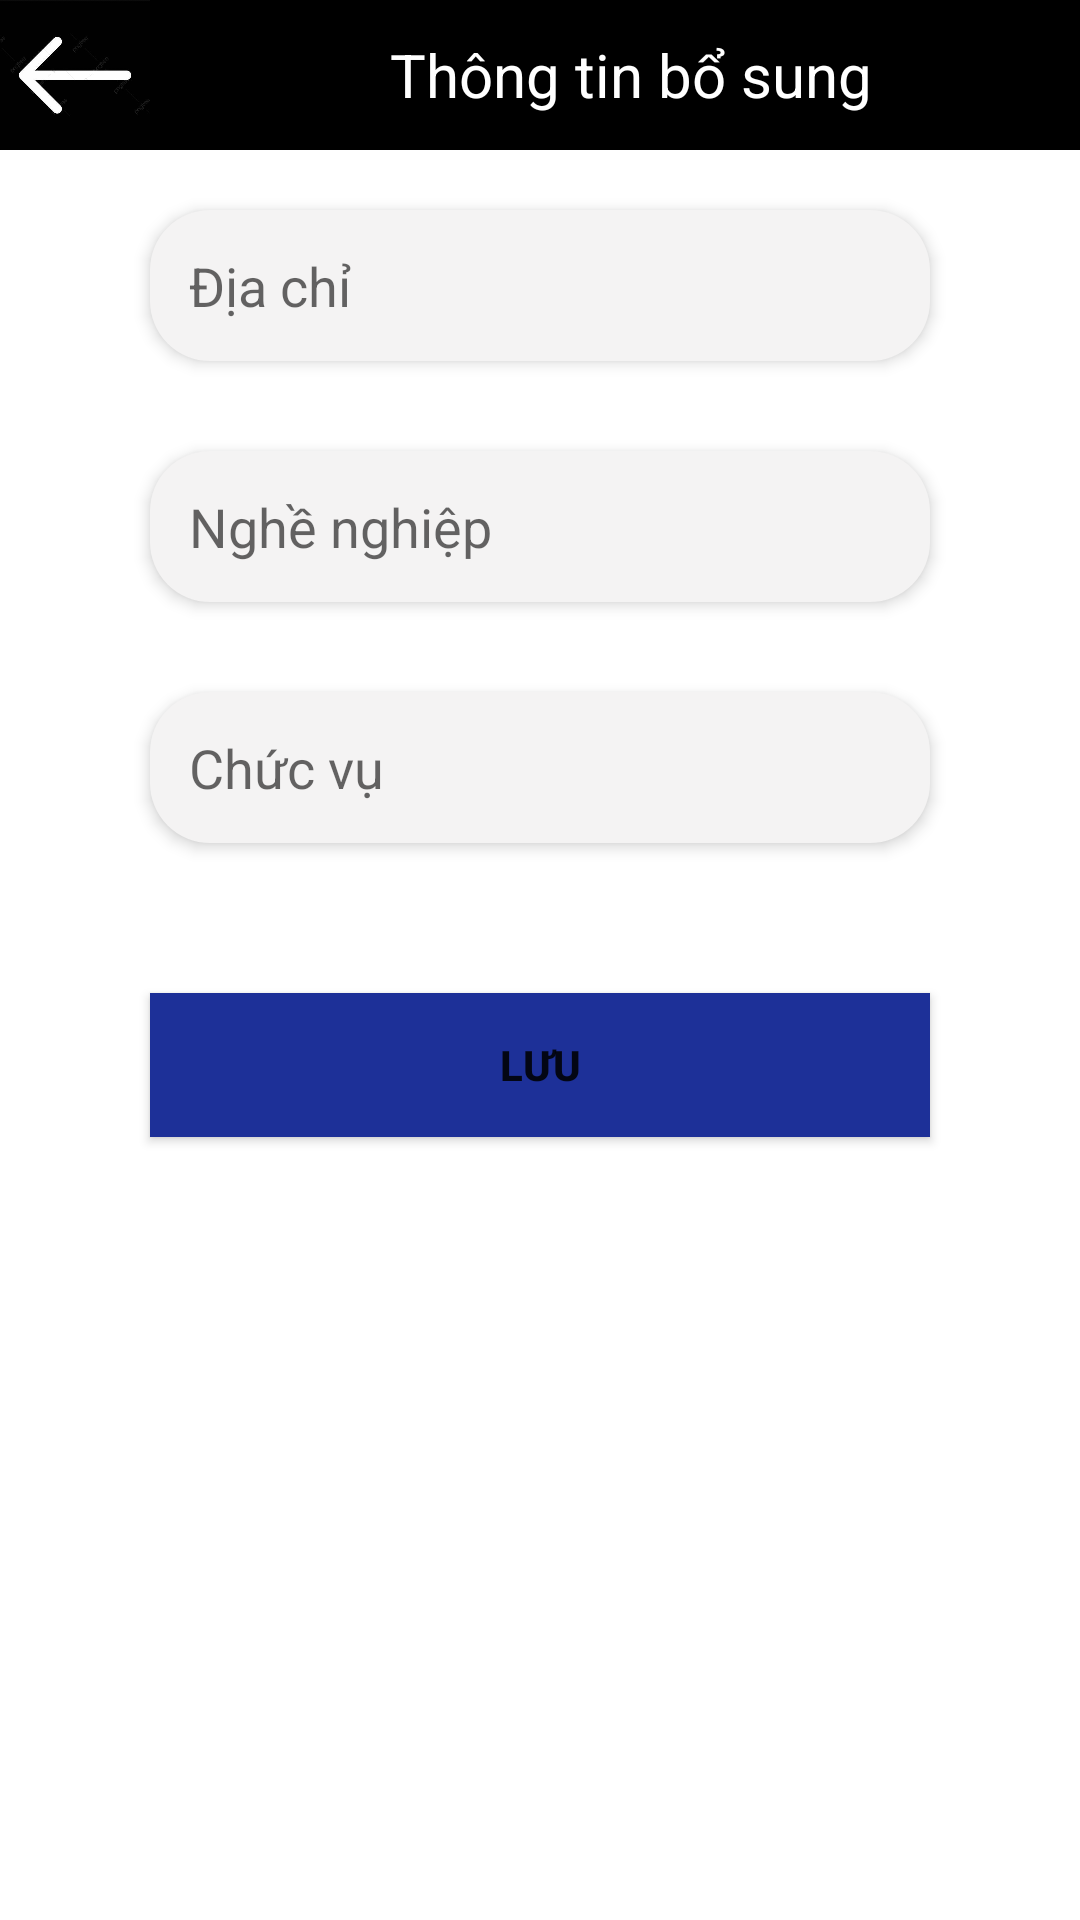

Screen size 1080x1920. Icon name, then its box in pixels as (x1, y1, x2, y2):
muiten: (1, 37, 150, 114)
